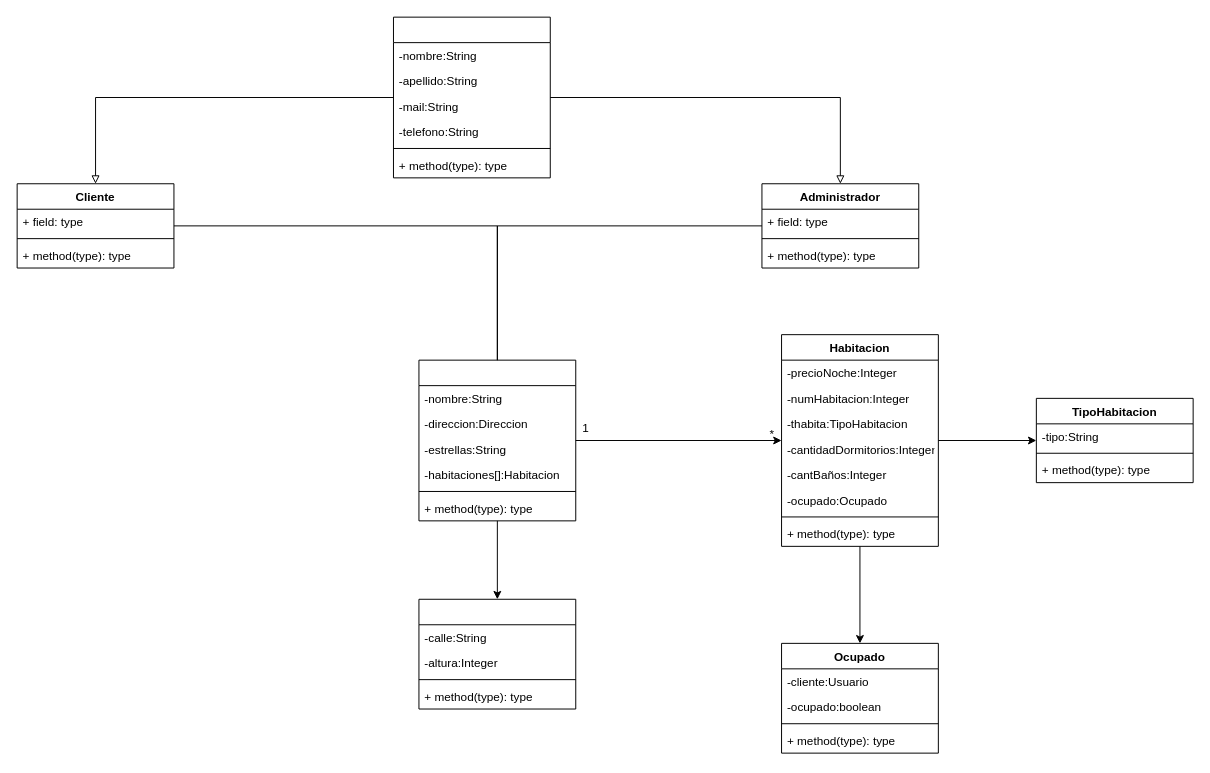
This 1210x773 diagram has some shape labels left out. Each missing label, with the box of its shape:
Direccion: (418, 598, 576, 709)
Hotel: (418, 359, 576, 521)
Persona: (392, 16, 550, 178)
